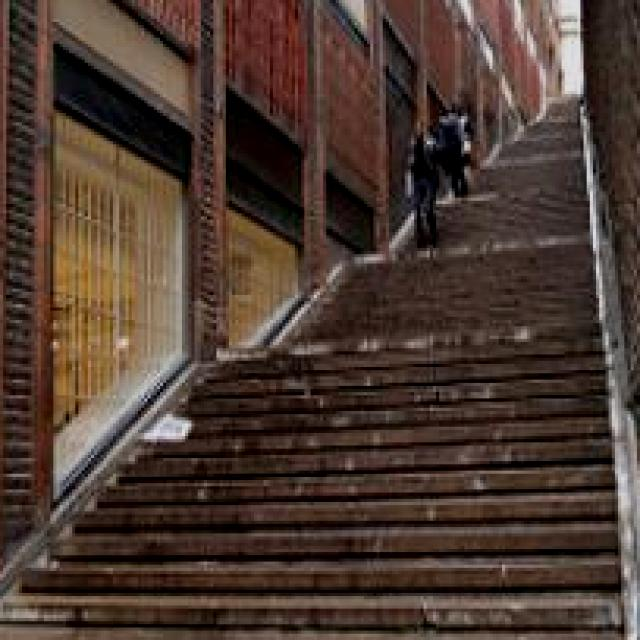upstair: (60, 402, 622, 640)
